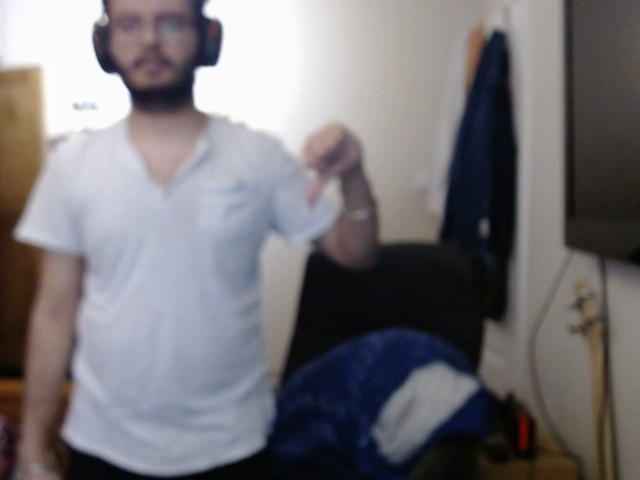Thumbs down: (301, 108, 373, 213)
